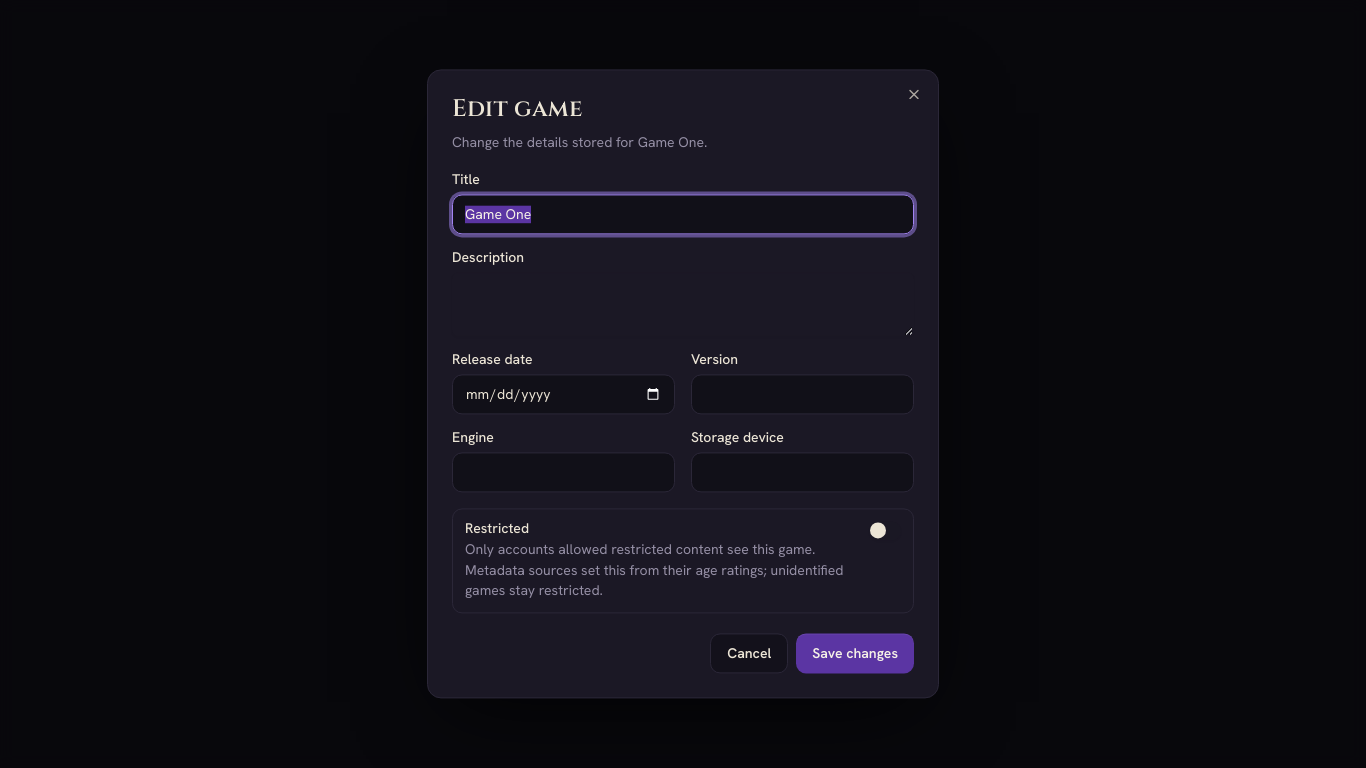
Test: ArchiveEditDialog › blocks saving when the title is empty
Clear the field labelled "Title" at (683, 215), box [452,195,914,235]
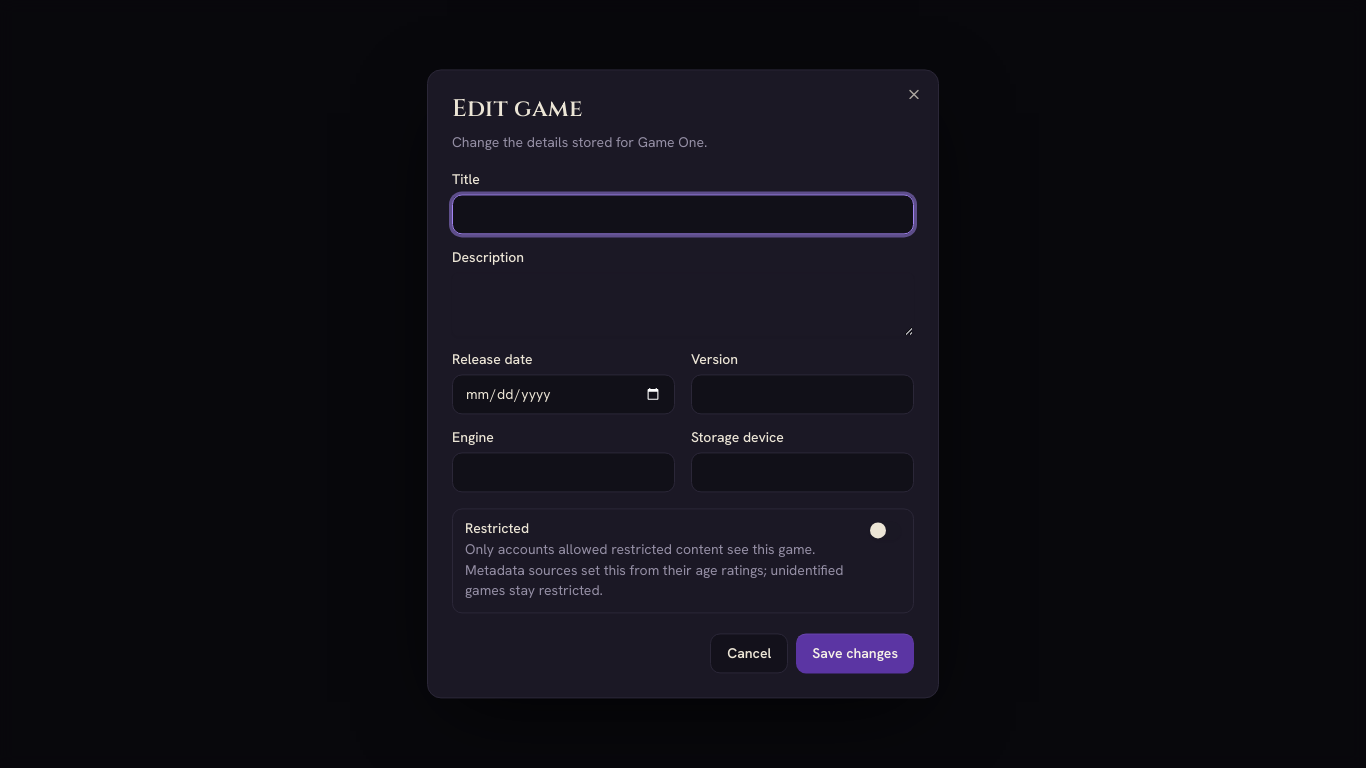
Click the button "Save changes" at (855, 654), box [796,634,914,674]
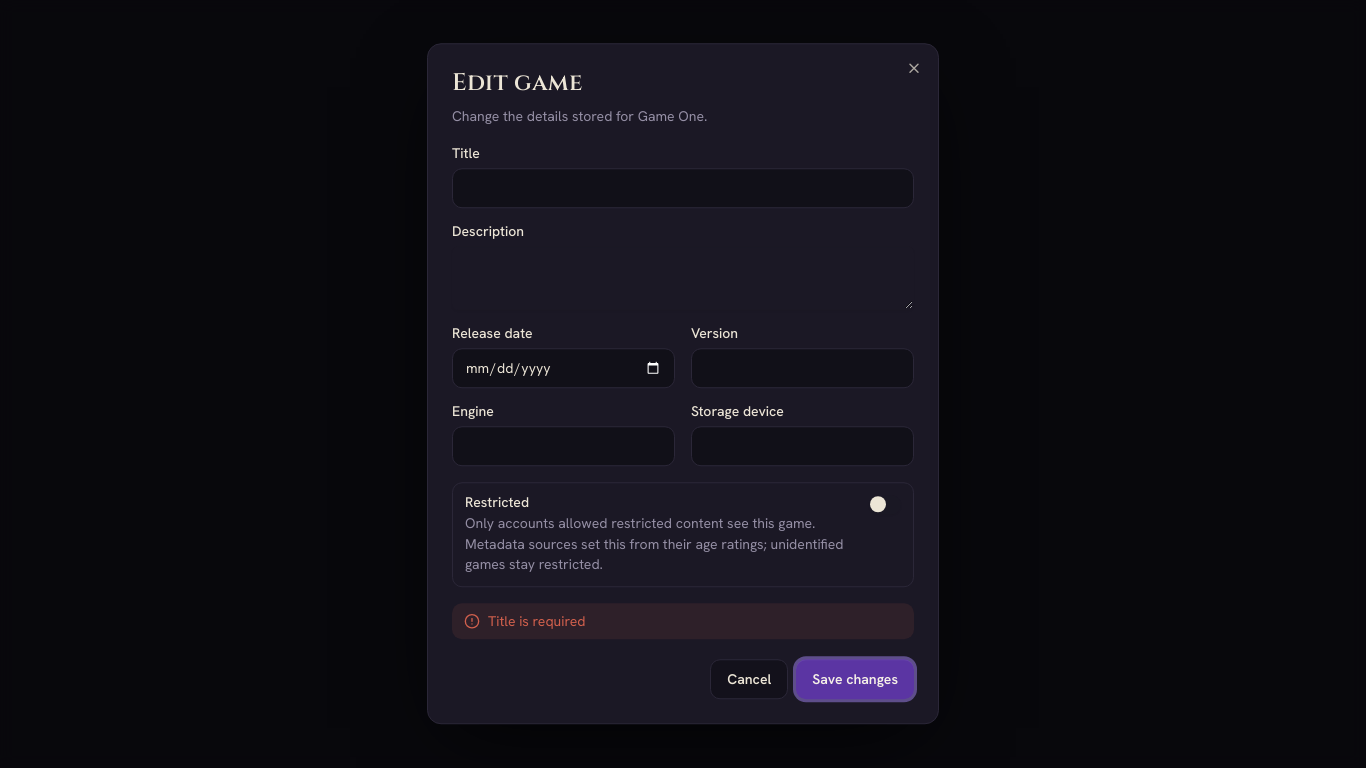
Result: the text "Title is required" is shown at [452,603,914,640]
